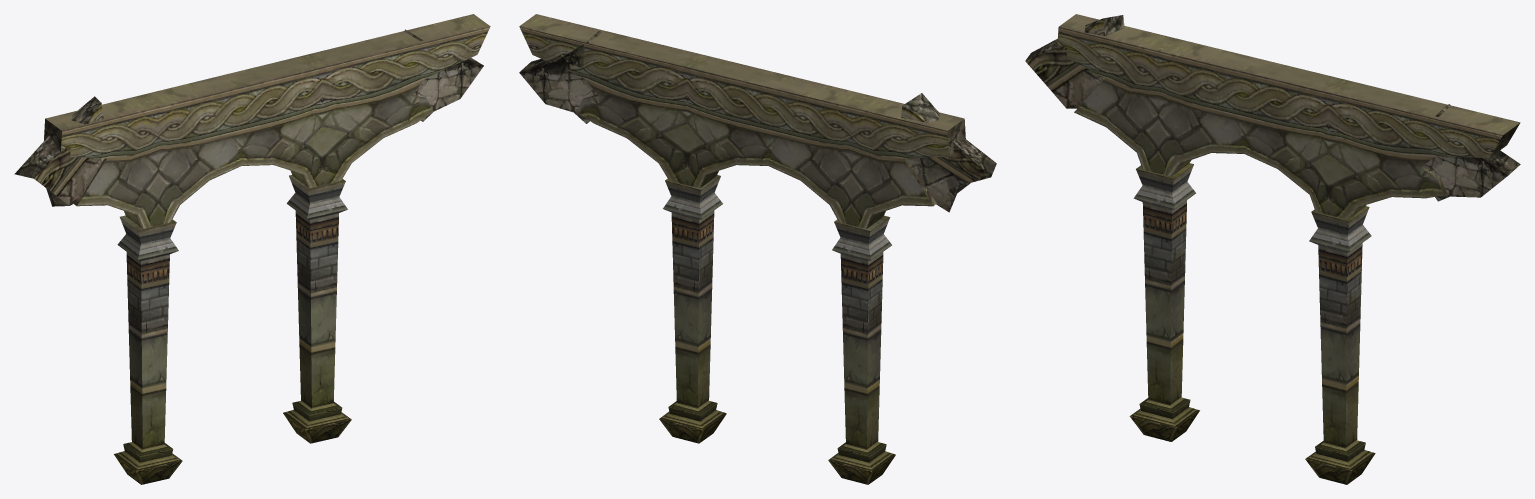
3 views of the same model, side by side, from view 1: azimuth 30°, elevation 25°; view 2: azimuth 150°, elevation 25°; view 3: azimuth 330°, elevation 25° (orthographic). The views are drawn at different scales.
Visible parts, largest first — view 1: DN_lv3_sd_bd12; view 2: DN_lv3_sd_bd12; view 3: DN_lv3_sd_bd12.
Boxes of the visible parts, x1,y1,x2,y2 form: DN_lv3_sd_bd12: (14, 14, 490, 484); DN_lv3_sd_bd12: (519, 14, 996, 484); DN_lv3_sd_bd12: (1025, 14, 1520, 484).
Bounding box in the file's own units: 1210 × 972 × 109.
